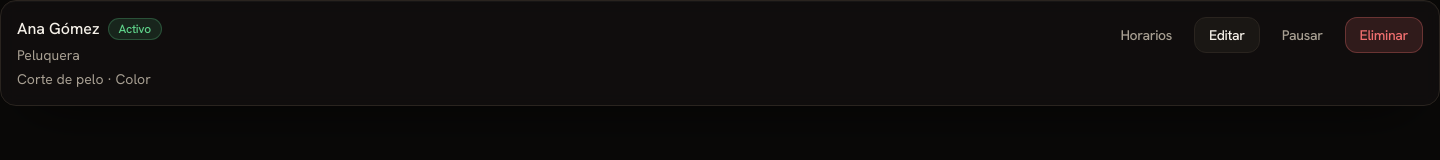
Test: StaffList › surfaces the error when a professional cannot be deleted
Click the button "Eliminar" at [1384, 35], box [1345,17,1423,53]
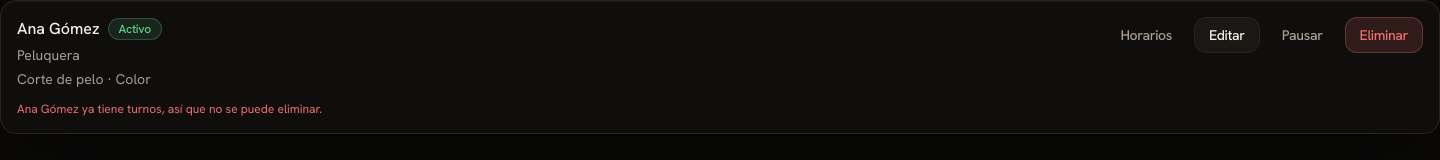
Now the text "Ana Gómez ya tiene turnos, así que no se puede eliminar." is shown, box [17,101,322,117]
